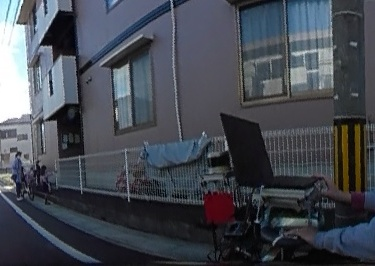person: (308, 24, 375, 258), (9, 149, 26, 198)
